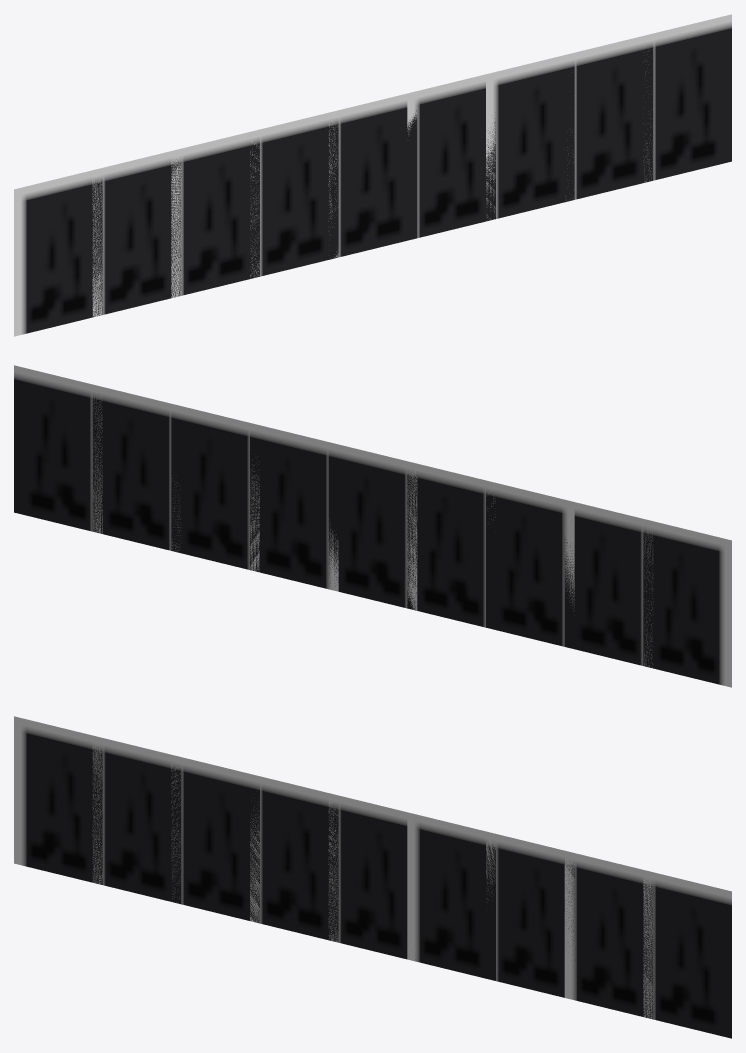
File: 9Char Text.FBX
The picture shows the model from 3 angles, top to bottom: view 1: azimuth 30°, elevation 25°; view 2: azimuth 150°, elevation 25°; view 3: azimuth 330°, elevation 25°; orthographic projection.
Visible parts, largest first — view 1: 9Chars Text; view 2: 9Chars Text; view 3: 9Chars Text.
Boxes of the visible parts, <box> form: 9Chars Text: <box>14,14,731,336</box>; 9Chars Text: <box>14,365,731,687</box>; 9Chars Text: <box>14,716,731,1038</box>.
Size of the model in its own units: 131 by 4.38e-06 by 25.65.
